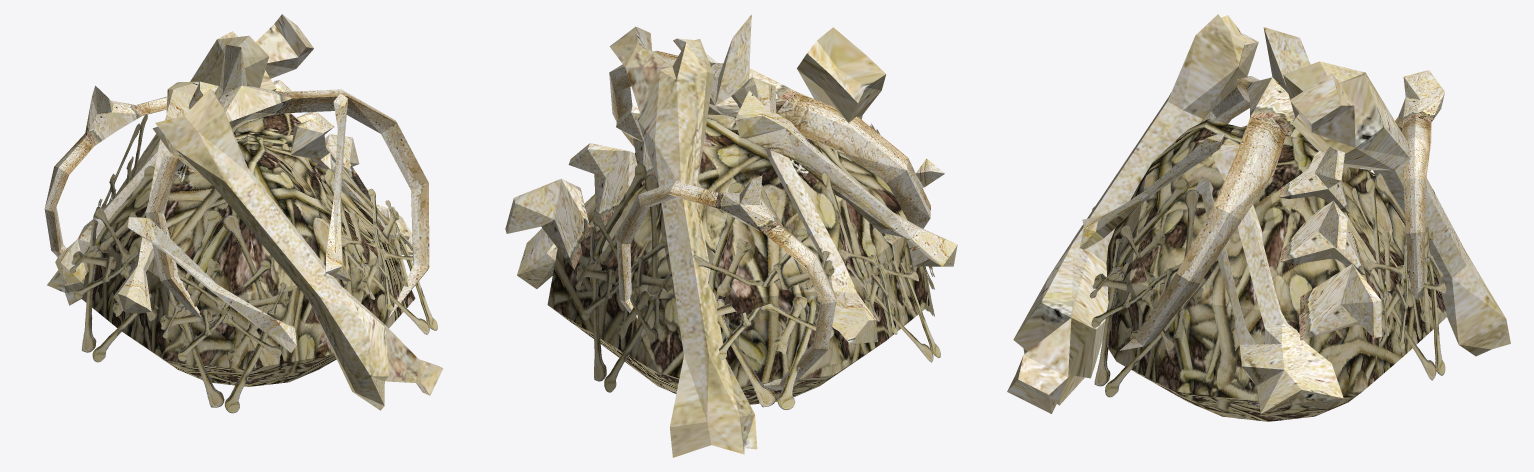
Rendered from poi_all_lair_bones_large_l0.fbx.
The picture shows the model from 3 angles, left to right: view 1: azimuth 30°, elevation 25°; view 2: azimuth 150°, elevation 25°; view 3: azimuth 270°, elevation 25°; orthographic projection. The views are drawn at different scales.
Parts seen in each view (by area): view 1: mesh_node; view 2: mesh_node; view 3: mesh_node.
Part boxes in pixels (box(x1,y1,x2,y2)): mesh_node: box(44, 14, 443, 413); mesh_node: box(505, 14, 957, 457); mesh_node: box(1007, 14, 1510, 421).
Bounding box in the file's own units: 6.72 × 5.65 × 7.04.
